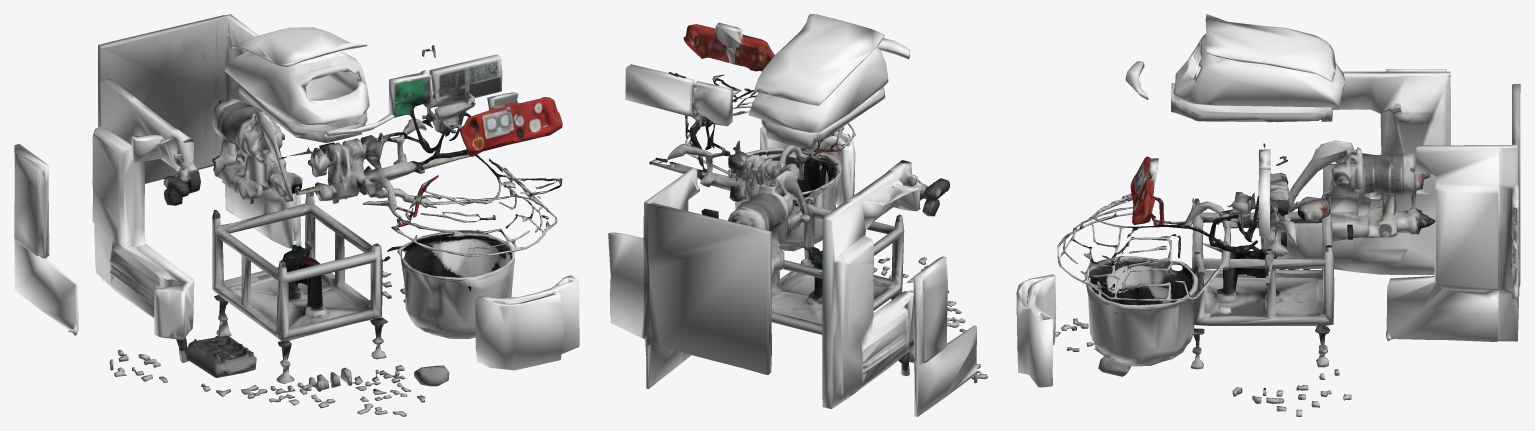
File: Meshy_AI_Industrial_Spiral_Mix_0605190748_texture.glb
3 views of the same model, side by side, from view 1: azimuth 30°, elevation 25°; view 2: azimuth 150°, elevation 25°; view 3: azimuth 270°, elevation 25° (orthographic). The views are drawn at different scales.
Bounding box in the file's own units: 1.84 × 1.38 × 2.
Materials: 1 (1 with a texture image).
